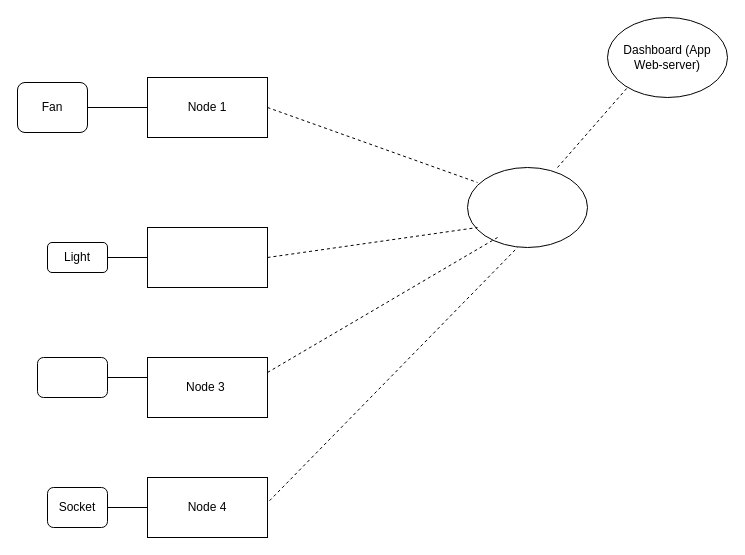
Image size: 745x555. Some labels were removed from this diagram. Here are the shapes that lost their labels. From the top down, the box of each, then its label:
(466, 166, 588, 248): Internet
(146, 226, 268, 288): Node 2
(36, 356, 108, 398): Diffuser
